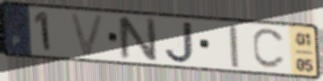1: (31, 11, 52, 55)
C: (251, 27, 288, 71)
I: (226, 23, 242, 70)
J: (163, 20, 197, 65)
N: (115, 15, 160, 63)
V: (67, 11, 108, 59)
